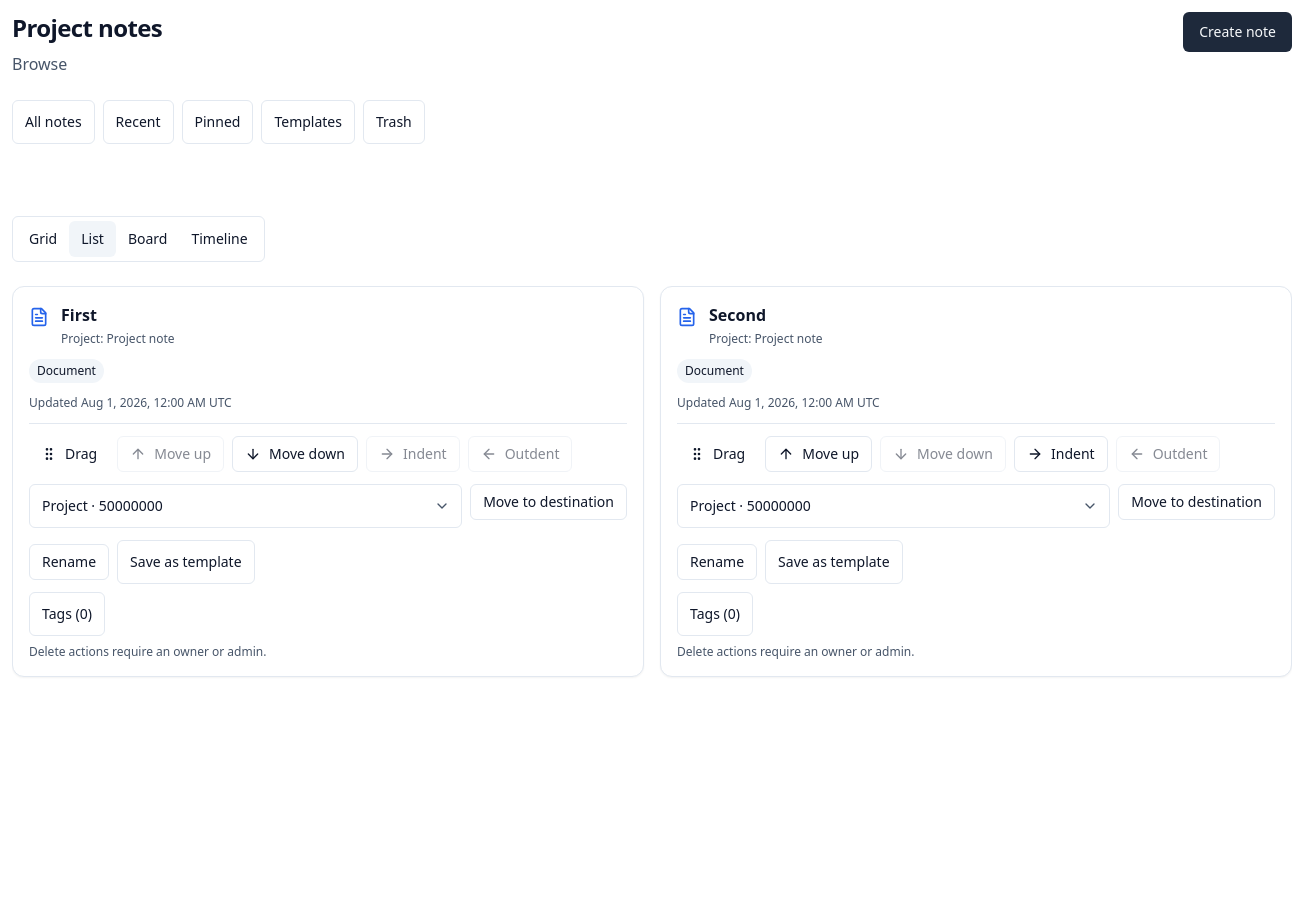
Test case: NoteBoard › says only 'No column' is shown when the column list cannot be loaded
This screenshot has width=1304, height=912.
Click the button "Board".
click(148, 239)  # box left=116, top=221, right=179, bottom=257
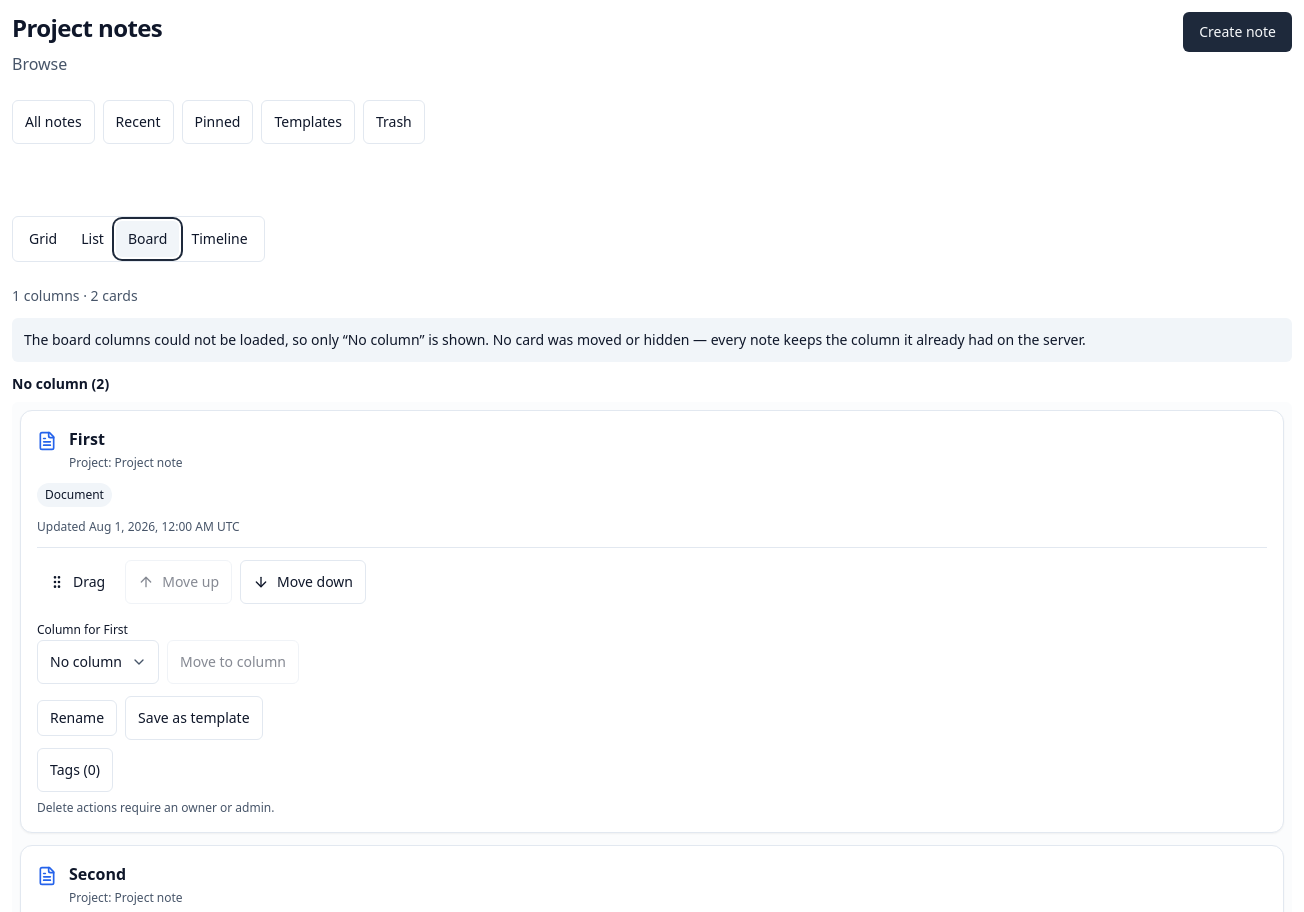
expect the link "First" is shown: met, box left=69, top=428, right=105, bottom=450
expect the text "only “No column” is shown" is shown: met, box left=24, top=330, right=1086, bottom=349
